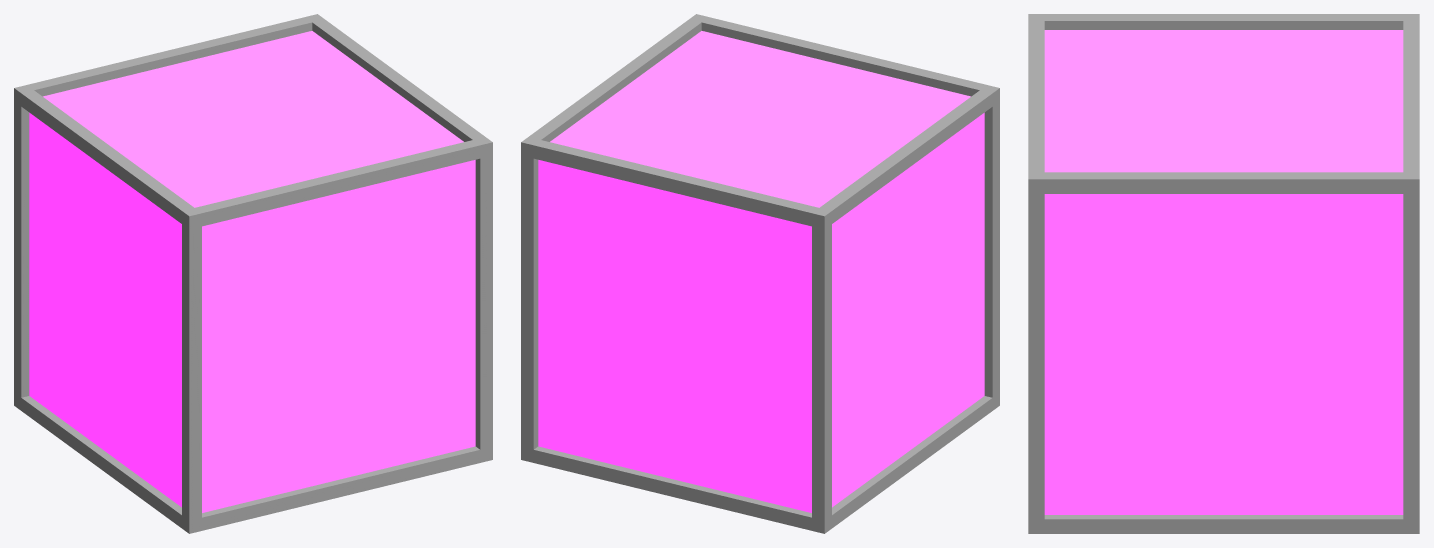
The model's file is SFI0410018.fbx.
The picture shows the model from 3 angles, left to right: view 1: azimuth 30°, elevation 25°; view 2: azimuth 150°, elevation 25°; view 3: azimuth 270°, elevation 25°; orthographic projection. The views are drawn at different scales.
Visible parts, largest first — view 1: smSFI0410018; view 2: smSFI0410018; view 3: smSFI0410018.
Boxes of the visible parts, x1,y1,x2,y2 form: smSFI0410018: (14,14,492,533); smSFI0410018: (521,14,999,533); smSFI0410018: (1028,14,1419,533).
Bounding box in the file's own units: 100 × 100 × 100.
